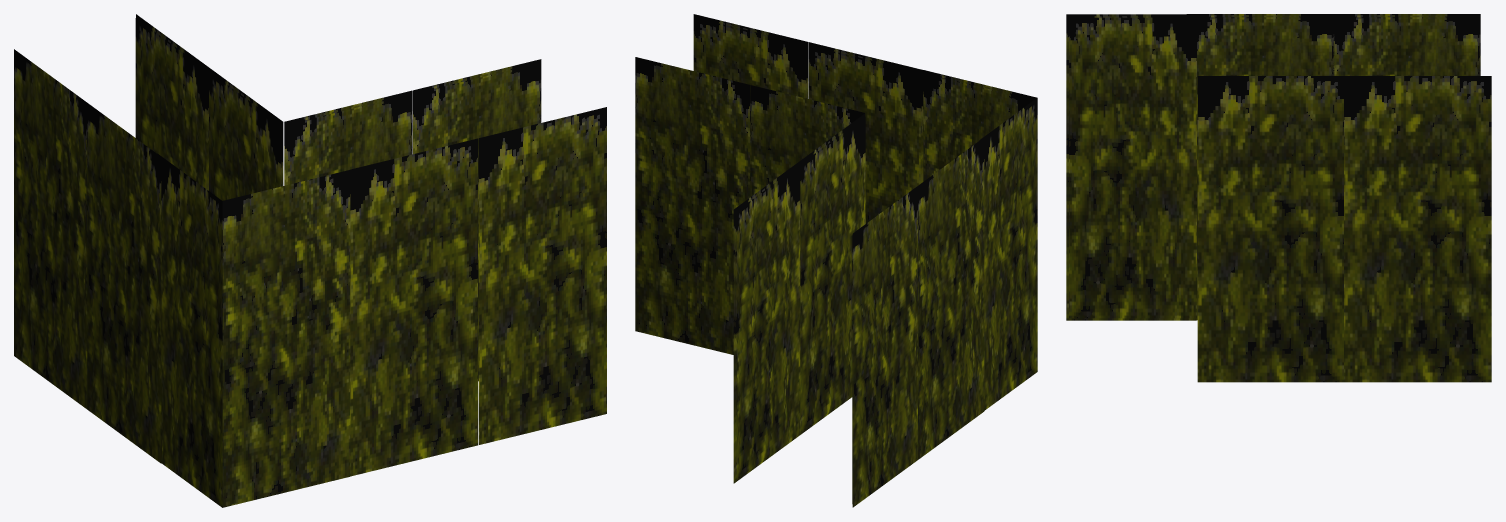
The model's file is Bushwall_TurnRight.fbx.
The picture shows the model from 3 angles, left to right: view 1: azimuth 30°, elevation 25°; view 2: azimuth 150°, elevation 25°; view 3: azimuth 270°, elevation 25°; orthographic projection. The views are drawn at different scales.
Parts seen in each view (by area): view 1: Bushwall.001; view 2: Bushwall.001; view 3: Bushwall.001.
Boxes of the visible parts, bbox=[...] form: Bushwall.001: bbox=[14, 14, 606, 507]; Bushwall.001: bbox=[635, 14, 1037, 507]; Bushwall.001: bbox=[1066, 14, 1491, 382].
Bounding box in the file's own units: 426 × 324 × 408.
1 material, 1 textured.
